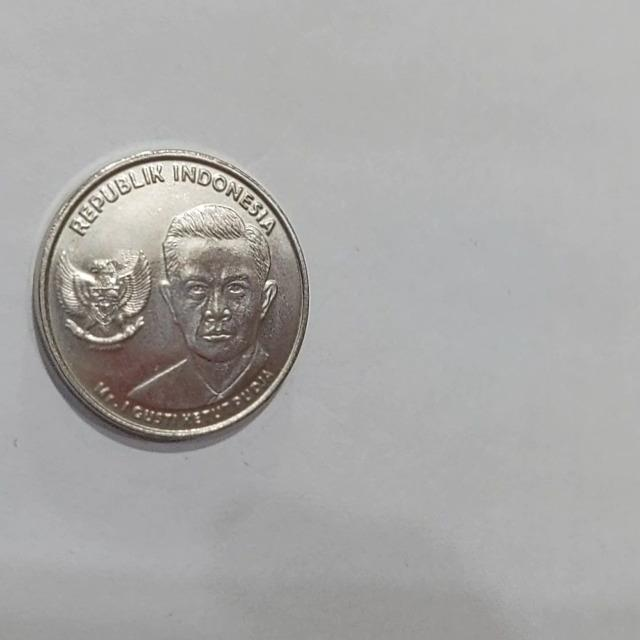Rp100: (31, 146, 311, 445), (120, 201, 280, 413)
